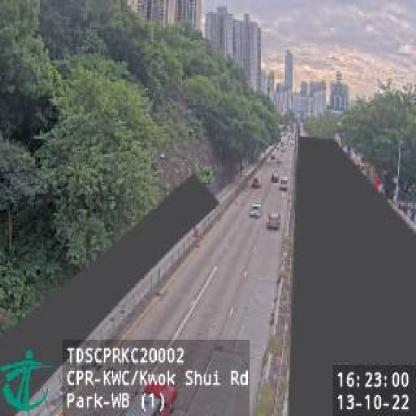Car: (268, 208, 281, 229), (248, 203, 261, 218), (280, 176, 290, 192), (253, 176, 262, 189), (272, 170, 280, 182)
